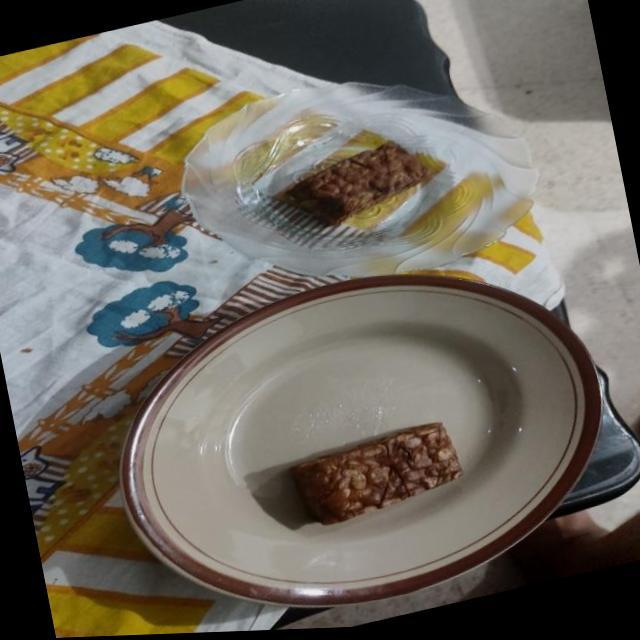tempe_goreng: (292, 422, 462, 524), (286, 142, 429, 224)
